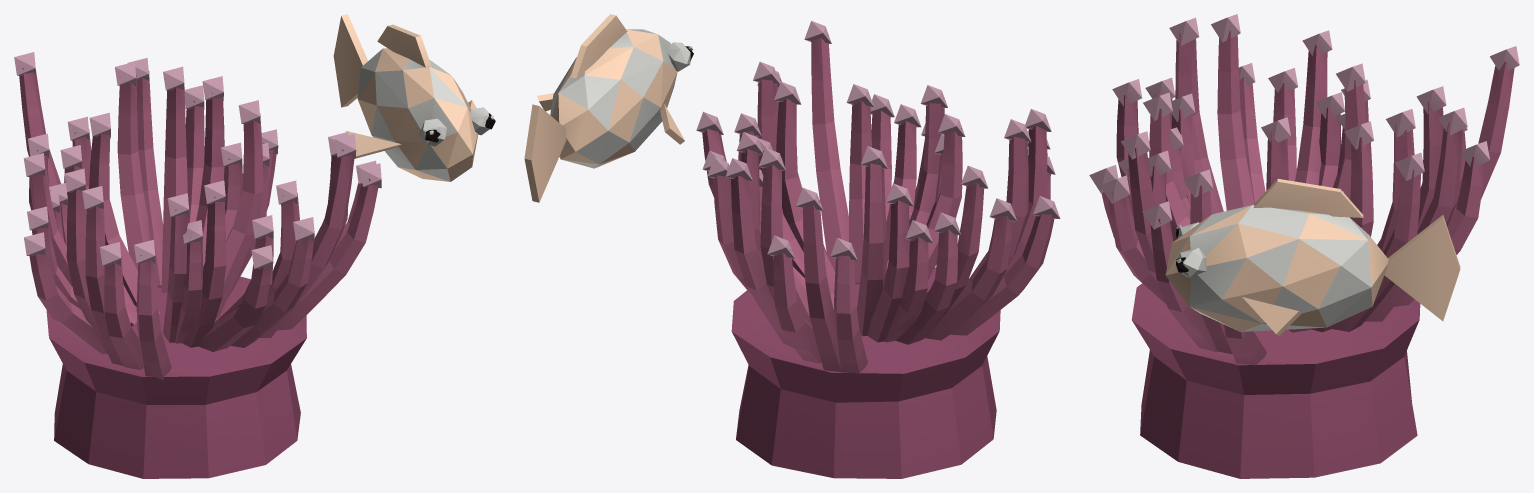
File: clown.glb
The picture shows the model from 3 angles, left to right: view 1: azimuth 30°, elevation 25°; view 2: azimuth 150°, elevation 25°; view 3: azimuth 270°, elevation 25°; orthographic projection. The views are drawn at different scales.
Visible parts, largest first — view 1: base, fish_m; view 2: base, fish_m; view 3: base, fish_m.
Boxes of the visible parts, x1,y1,x2,y2 form: base: (14,52,381,478); fish_m: (333,14,495,181); base: (696,21,1060,478); fish_m: (524,14,693,202); base: (1089,14,1519,478); fish_m: (1165,178,1460,335).
Bounding box in the file's own units: 0.2165 × 0.144 × 0.1509.
